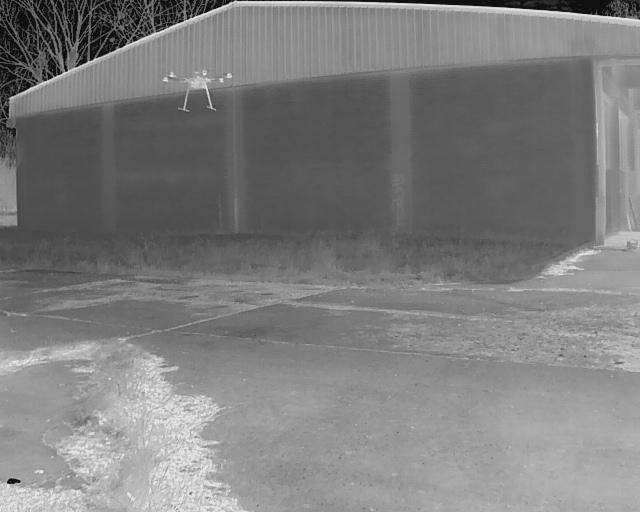drone: (154, 64, 232, 126)
